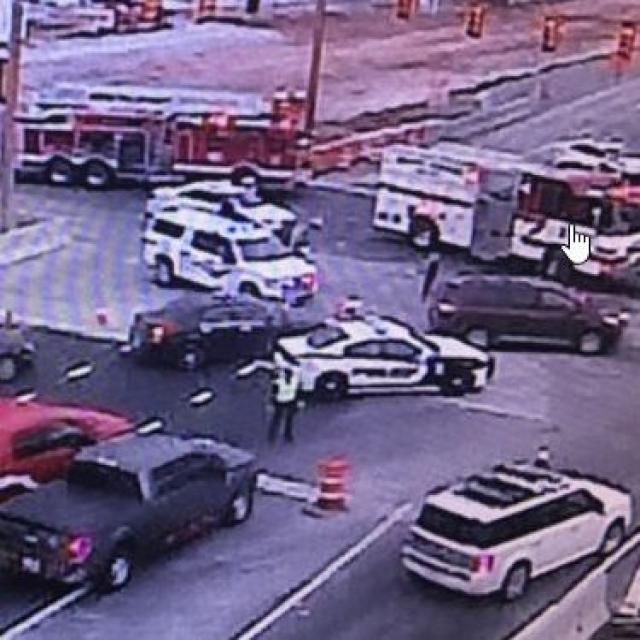traffic_incident: (388, 106, 638, 285)
